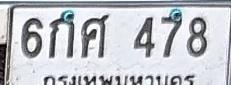4: (133, 16, 155, 57)
6: (21, 17, 43, 58)
7: (161, 16, 182, 57)
8: (186, 16, 207, 56)
A01: (48, 17, 75, 58)
A38: (81, 14, 109, 58)
